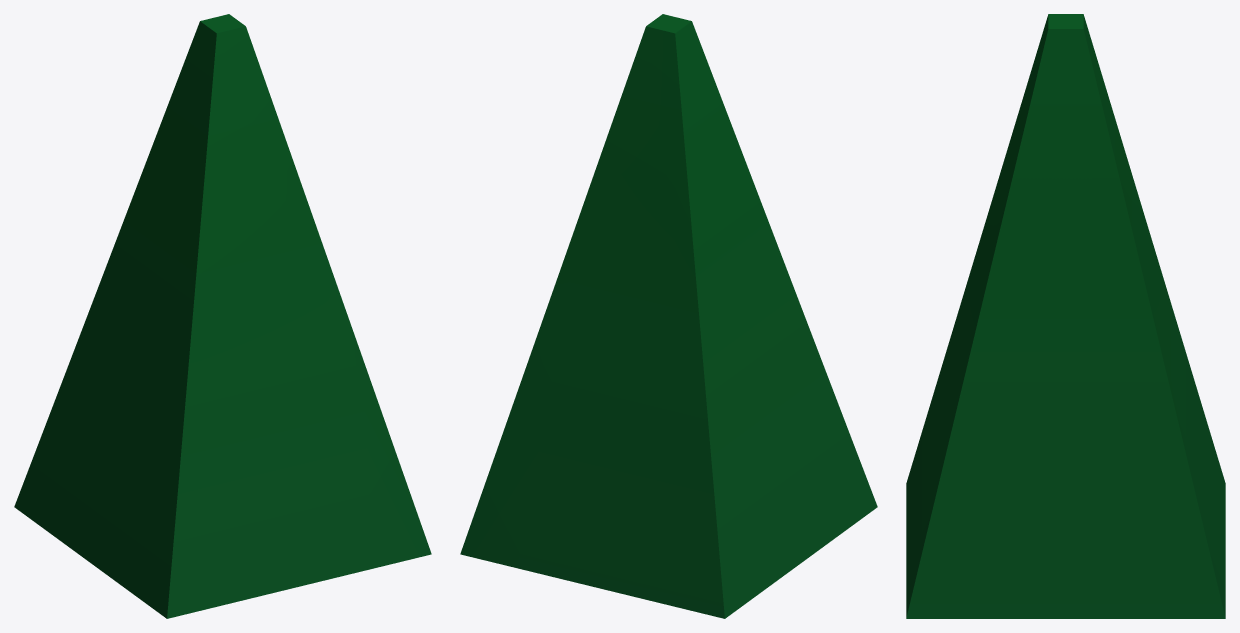
File: fir tree 1.fbx
3 renders of one model, left to right at view 1: azimuth 30°, elevation 25°; view 2: azimuth 150°, elevation 25°; view 3: azimuth 270°, elevation 25°, orthographic. The views are drawn at different scales.
Parts seen in each view (by area): view 1: fir tree 1; view 2: fir tree 1; view 3: fir tree 1.
Boxes of the visible parts, x1=… form: fir tree 1: x1=14, y1=14, x2=431, y2=618; fir tree 1: x1=460, y1=14, x2=877, y2=618; fir tree 1: x1=906, y1=14, x2=1225, y2=618.
Bounding box in the file's own units: 223 × 449 × 223.
1 material, 1 textured.
